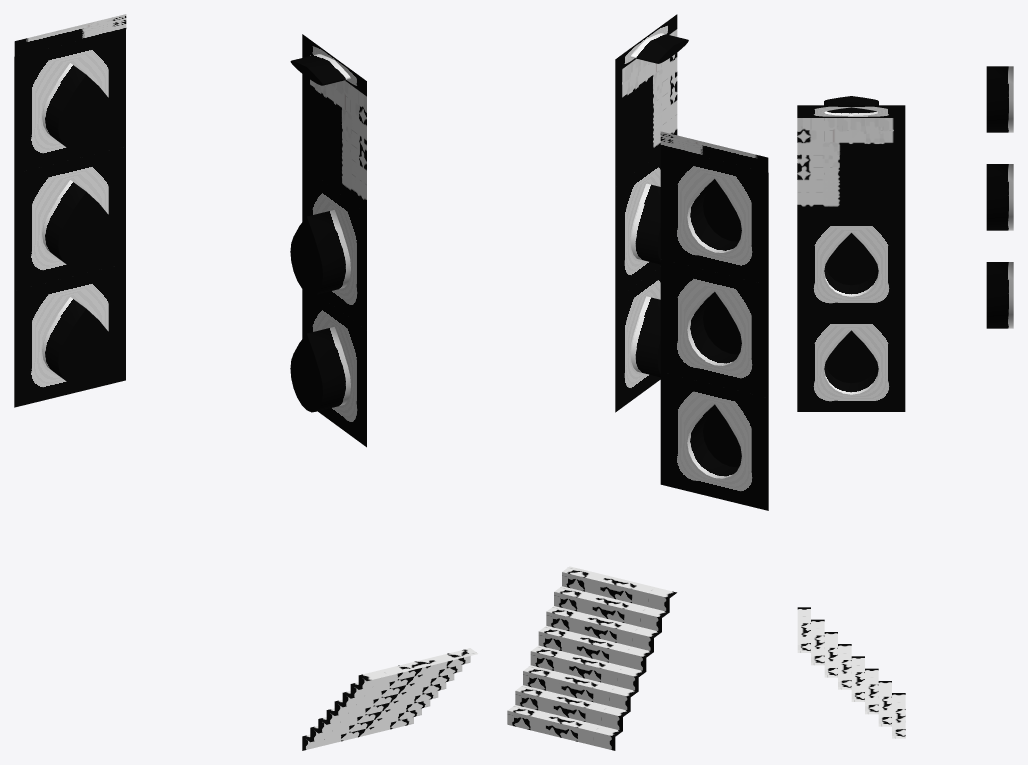
Rendered from geo_mask_stage2.fbx.
The picture shows the model from 3 angles, left to right: view 1: azimuth 30°, elevation 25°; view 2: azimuth 150°, elevation 25°; view 3: azimuth 270°, elevation 25°; orthographic projection. The views are drawn at different scales.
Parts seen in each view (by area): view 1: Windows_Inset_Tear (×2), Windows_Inset_Tear (1) (×2), Windows_Inset_Tear (2), Windows_Inset_Tear (4), Windows_Inset_Tear (3) (×2), Whitebox_Stairs_NoSides; view 2: Whitebox_Stairs_NoSides, Windows_Inset_Tear (1) (×2), Windows_Inset_Tear (4), Windows_Inset_Tear (2), Windows_Inset_Tear (×2), Windows_Inset_Tear (3) (×2); view 3: Windows_Inset_Tear (×2), Windows_Inset_Tear (3), Whitebox_Stairs_NoSides, Windows_Inset_Tear (1) (×2), Windows_Inset_Tear (4), Windows_Inset_Tear (2).
Part boxes in pixels (x1,y1,x2,y2): Windows_Inset_Tear (×2): (290, 166, 366, 447); Windows_Inset_Tear (1) (×2): (14, 34, 366, 290); Windows_Inset_Tear (2): (14, 263, 125, 407); Windows_Inset_Tear (4): (14, 29, 125, 173); Windows_Inset_Tear (3) (×2): (14, 14, 366, 213); Whitebox_Stairs_NoSides: (302, 648, 477, 750); Whitebox_Stairs_NoSides: (507, 566, 676, 750); Windows_Inset_Tear (1) (×2): (615, 14, 768, 397); Windows_Inset_Tear (4): (660, 146, 768, 285); Windows_Inset_Tear (2): (660, 372, 768, 510); Windows_Inset_Tear (×2): (615, 154, 660, 412); Windows_Inset_Tear (3) (×2): (615, 29, 768, 186); Windows_Inset_Tear (×2): (797, 216, 905, 411); Windows_Inset_Tear (3): (797, 118, 905, 215); Whitebox_Stairs_NoSides: (797, 607, 905, 738); Windows_Inset_Tear (1) (×2): (797, 96, 1013, 230); Windows_Inset_Tear (4): (986, 66, 1013, 132); Windows_Inset_Tear (2): (986, 262, 1013, 328).
Bounding box in the file's own units: 3 × 6.13 × 2.
Materials: 1 (1 with a texture image).
